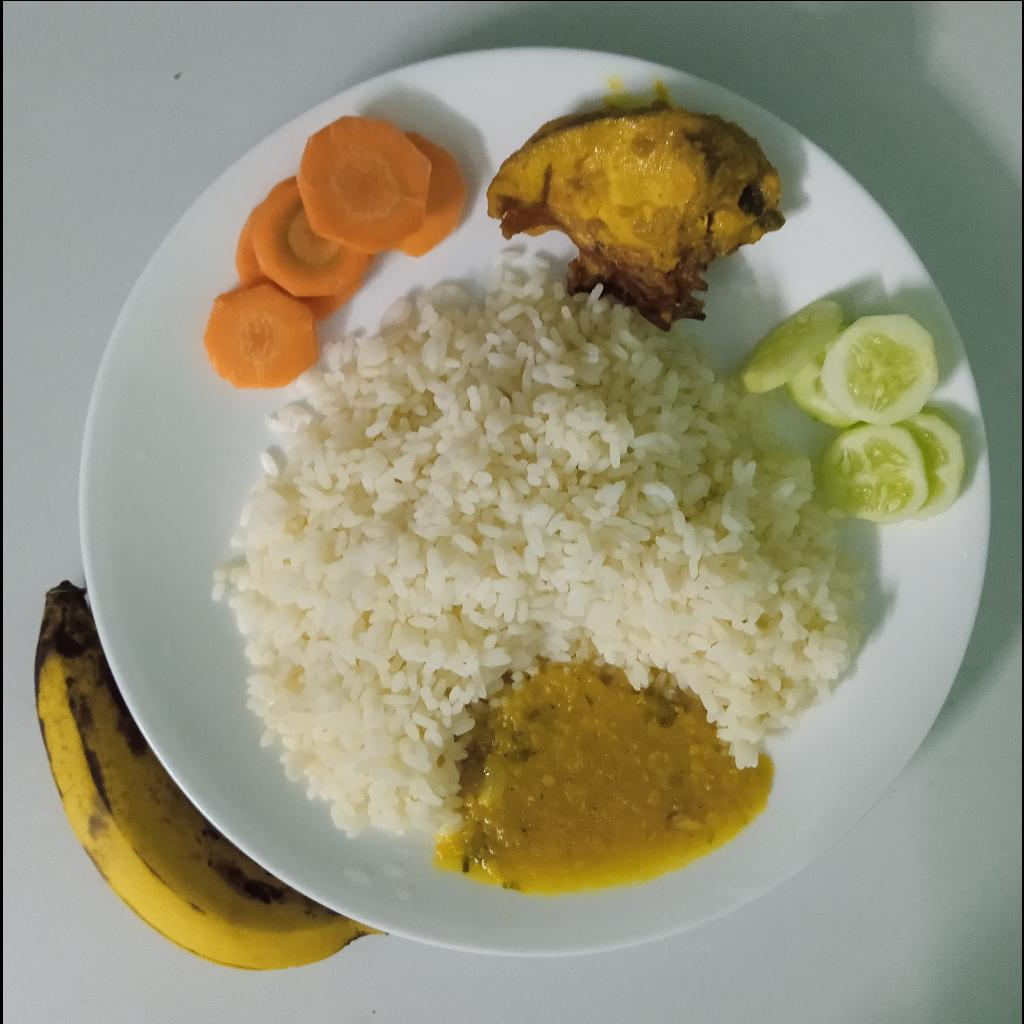banana: (32, 578, 386, 975)
carrot: (201, 114, 465, 391)
chicken: (482, 104, 781, 321)
cucumber: (734, 299, 965, 523)
daal: (432, 661, 768, 893)
rice: (214, 254, 858, 835)
